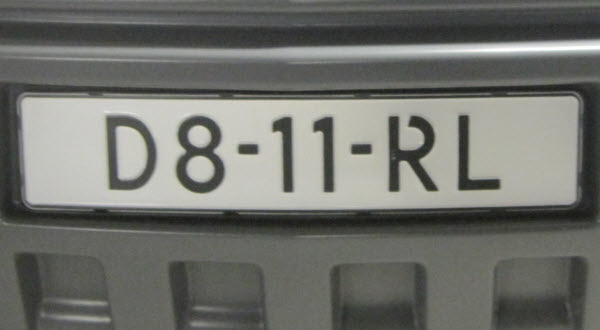license_plate: (15, 89, 583, 210)
